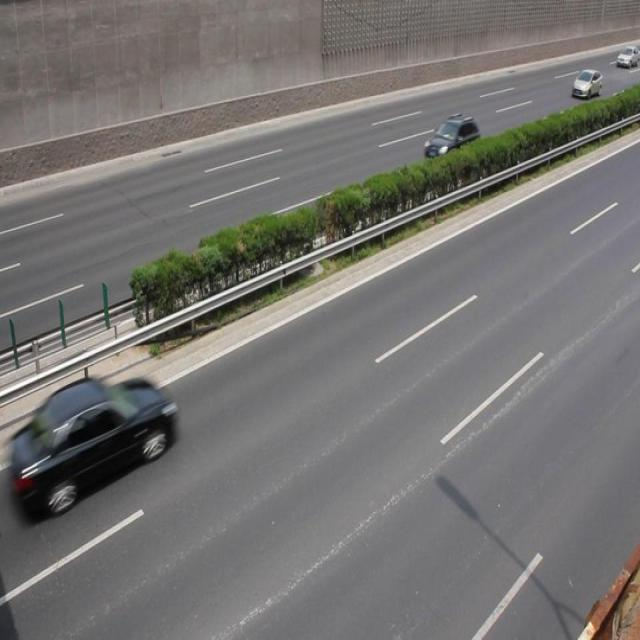car: (11, 372, 176, 514), (423, 112, 480, 170), (570, 69, 602, 97)
